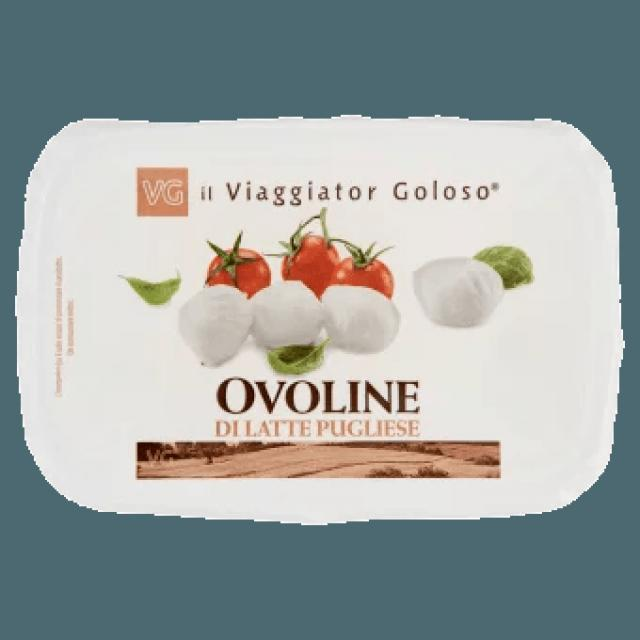Cheese: (15, 117, 625, 525)
